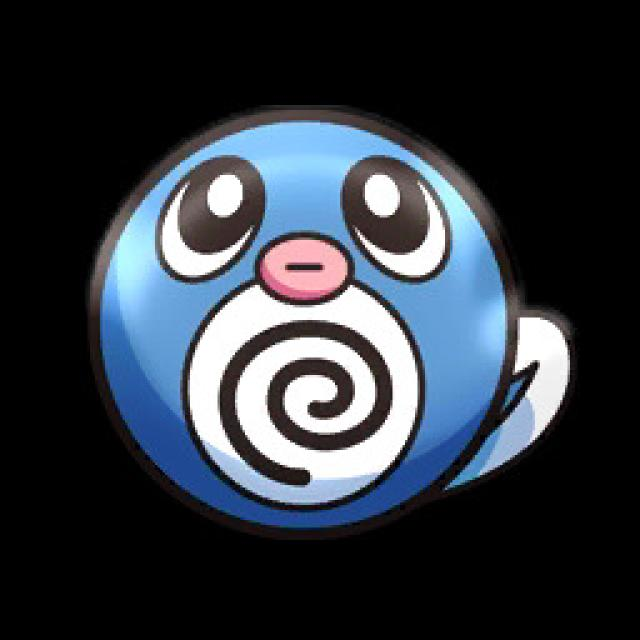Poliwag: (80, 112, 561, 488)
